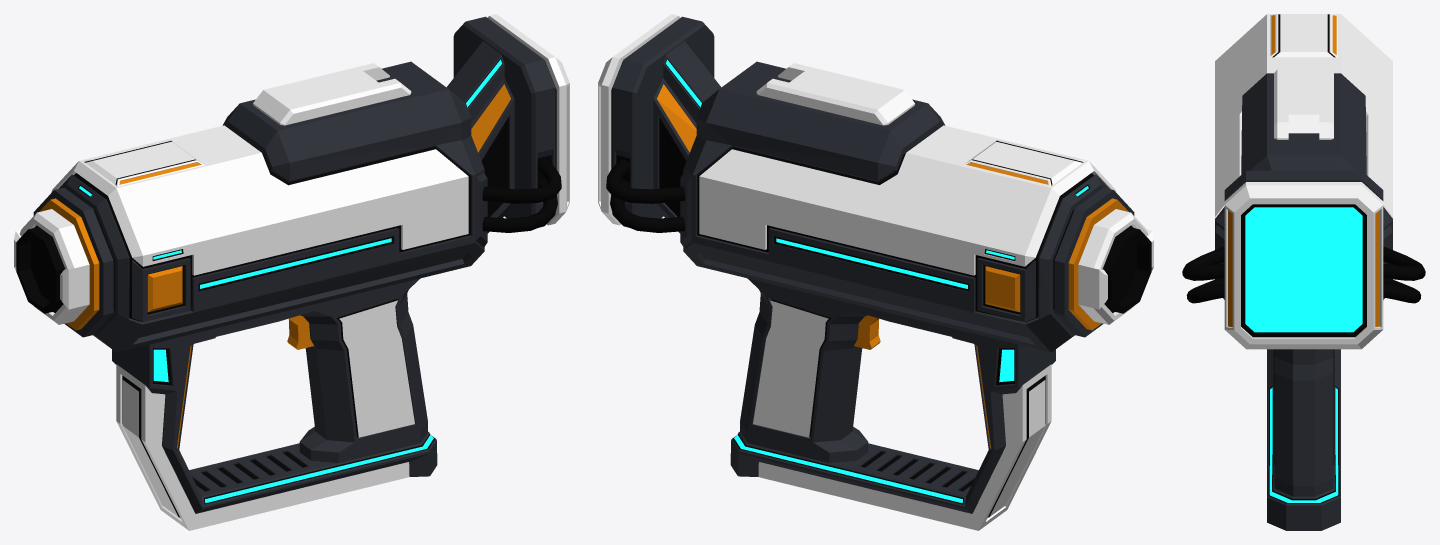
The model's file is SM_Multi_Tool.fbx.
3 views of the same model, side by side, from view 1: azimuth 30°, elevation 25°; view 2: azimuth 150°, elevation 25°; view 3: azimuth 270°, elevation 25° (orthographic).
Parts seen in each view (by area): view 1: SM_Multi_Tool; view 2: SM_Multi_Tool; view 3: SM_Multi_Tool.
Boxes of the visible parts, left/top/right/bottom form: SM_Multi_Tool: left=14, top=14, right=569, bottom=530; SM_Multi_Tool: left=598, top=14, right=1153, bottom=530; SM_Multi_Tool: left=1182, top=14, right=1425, bottom=530.
Size of the model in its own units: 39.35 by 30.14 by 16.96.
